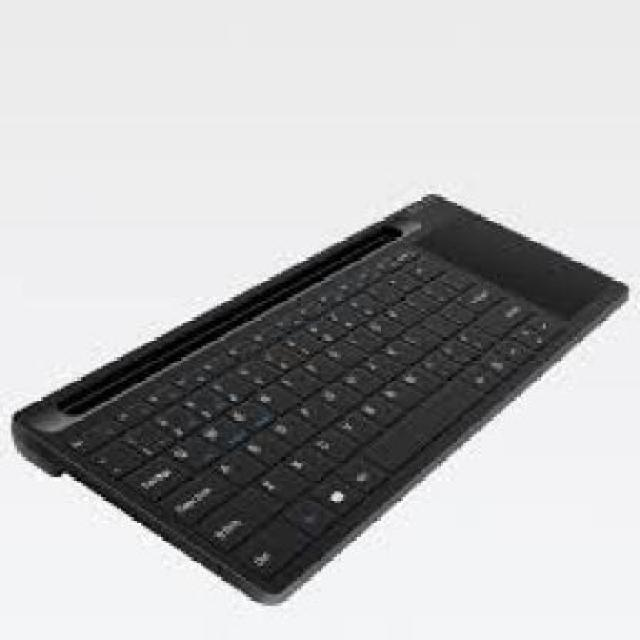keyboard: (49, 203, 625, 593)
